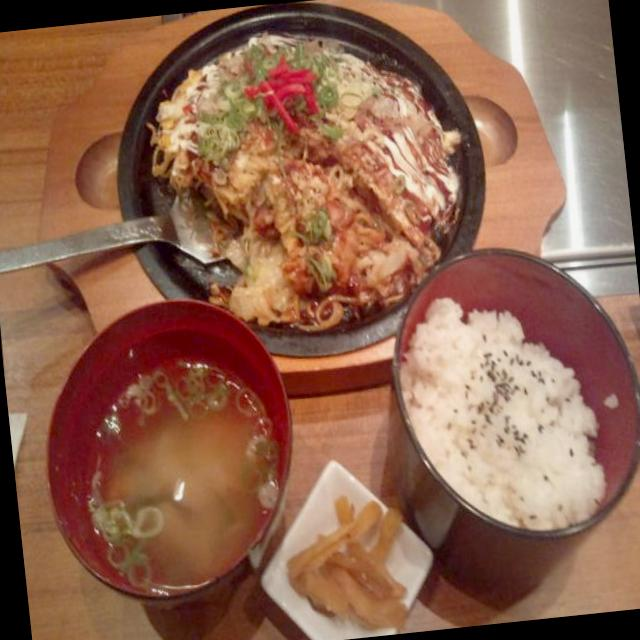Rice: (398, 284, 602, 520)
